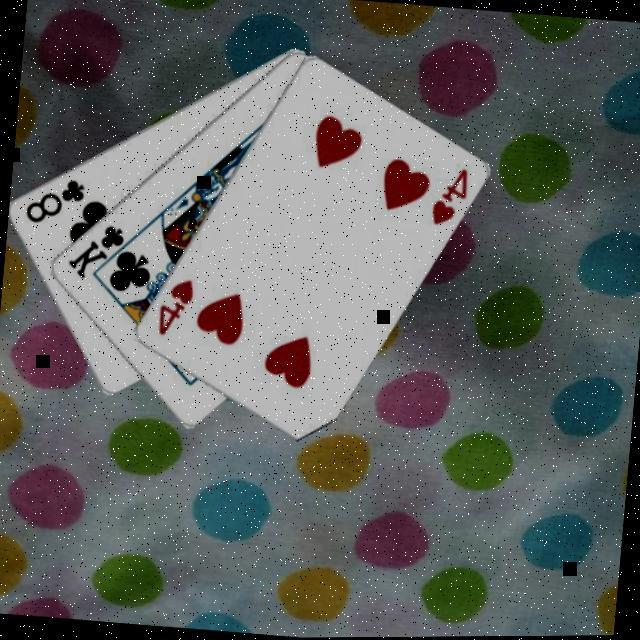4H: (425, 165, 471, 233), (151, 275, 196, 342)
8C: (19, 173, 87, 230)
KC: (62, 220, 139, 287)
